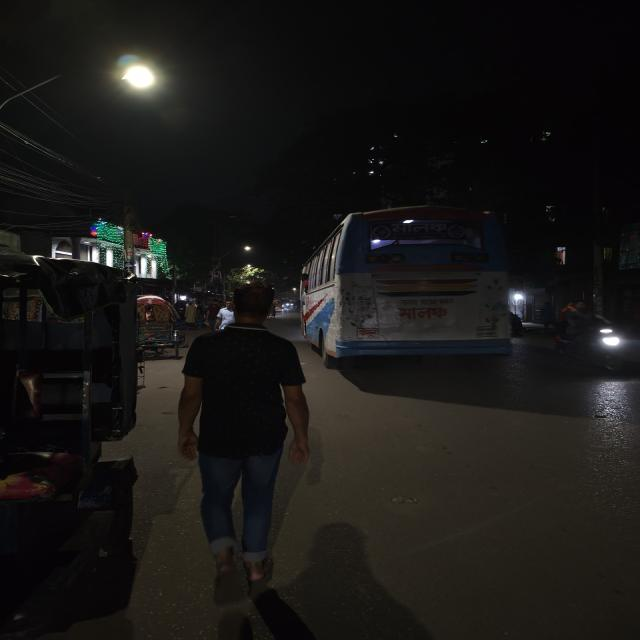bus: (294, 200, 520, 371)
motorcycle: (541, 299, 638, 376)
pedestrian: (173, 328, 323, 594), (183, 298, 207, 328), (212, 302, 236, 332)
rickshaw: (0, 245, 146, 626), (130, 293, 191, 359)
truck: (295, 201, 522, 369)
